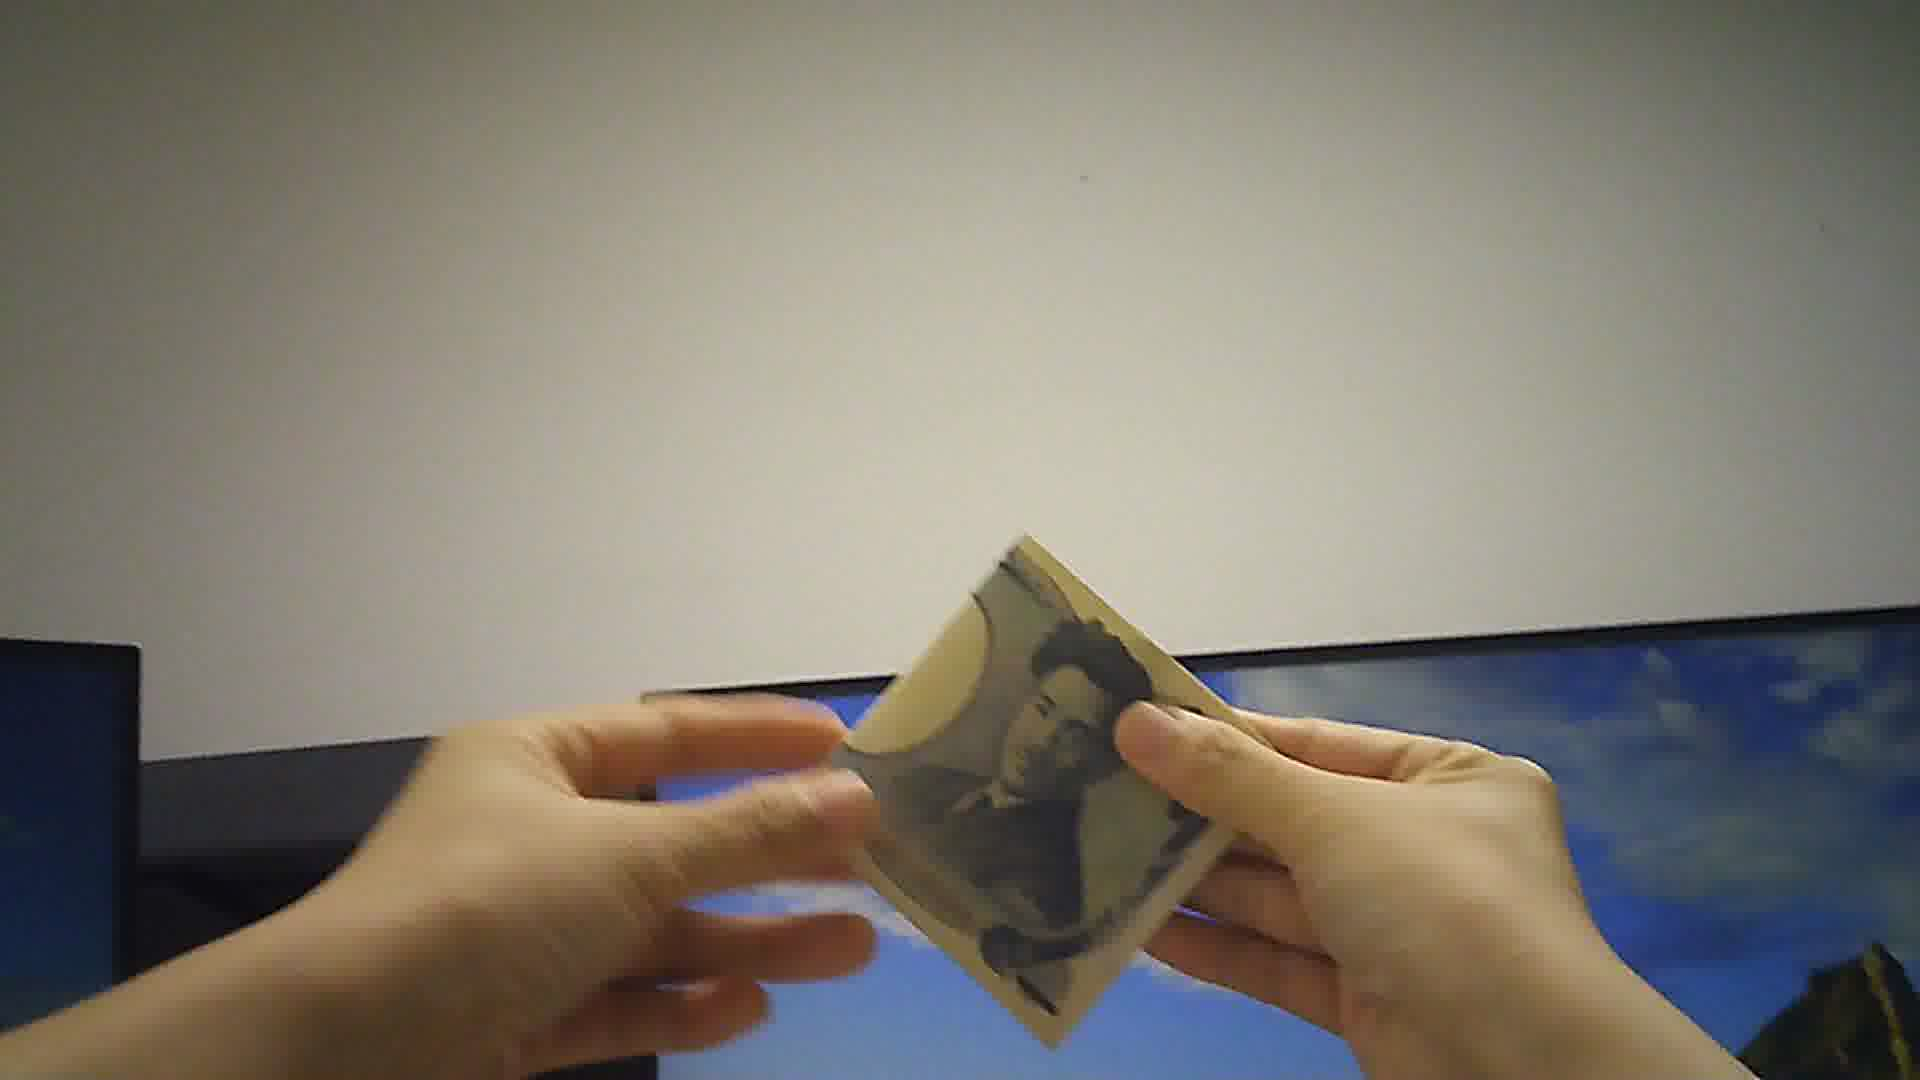1,000 Yen: (791, 520, 1291, 1059)
